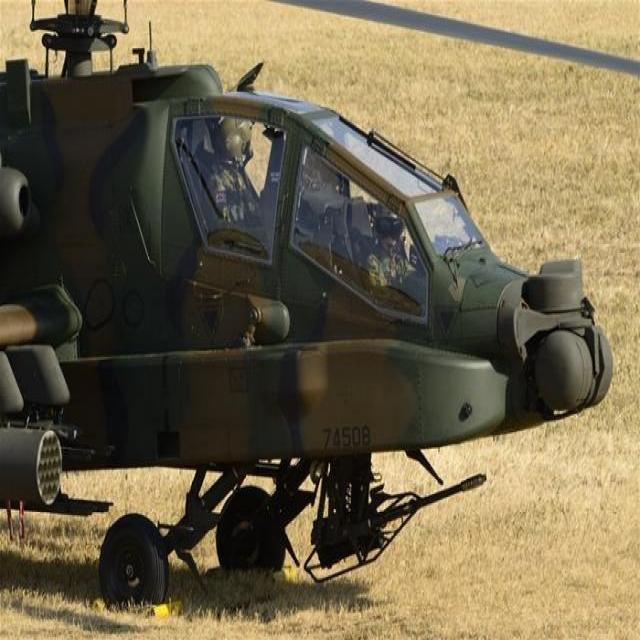MIL_HELO: (0, 0, 603, 610)
